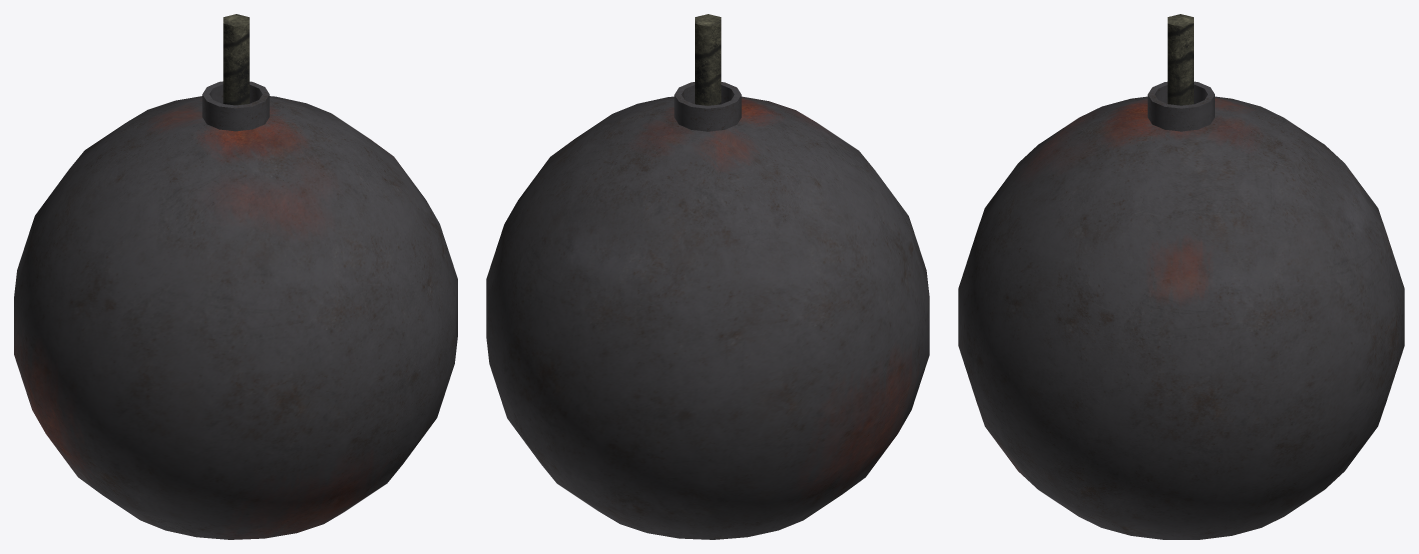
The model's file is bomb_cannonball_low_poly.glb.
3 views of the same model, side by side, from view 1: azimuth 30°, elevation 25°; view 2: azimuth 150°, elevation 25°; view 3: azimuth 270°, elevation 25° (orthographic).
Parts seen in each view (by area): view 1: Cylinder002_Bomba_0, Object001_Bomba_0; view 2: Cylinder002_Bomba_0, Object001_Bomba_0; view 3: Cylinder002_Bomba_0, Object001_Bomba_0.
Boxes of the visible parts, x1,y1,x2,y2 form: Cylinder002_Bomba_0: [14, 81, 457, 539]; Object001_Bomba_0: [223, 14, 249, 105]; Cylinder002_Bomba_0: [486, 82, 929, 539]; Object001_Bomba_0: [695, 14, 721, 105]; Cylinder002_Bomba_0: [958, 81, 1404, 539]; Object001_Bomba_0: [1167, 14, 1193, 105].
Bounding box in the file's own units: 0.2444 × 0.3061 × 0.2469.
1 material, 1 textured.
